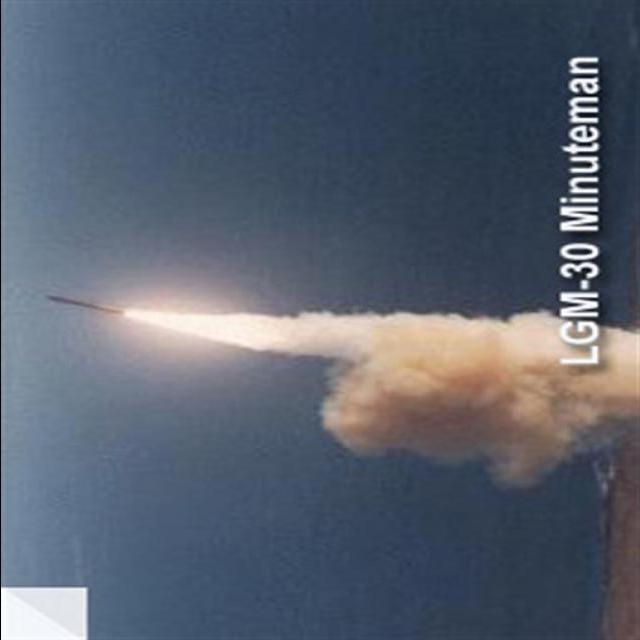missile: (39, 284, 128, 330)
